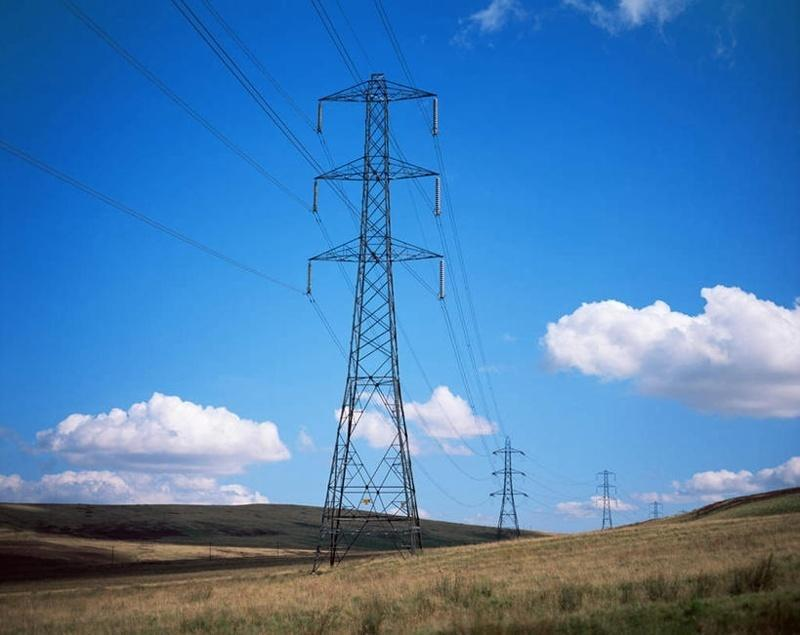power_tower: (305, 71, 446, 575), (485, 431, 535, 540), (593, 466, 620, 536), (648, 499, 665, 523)
